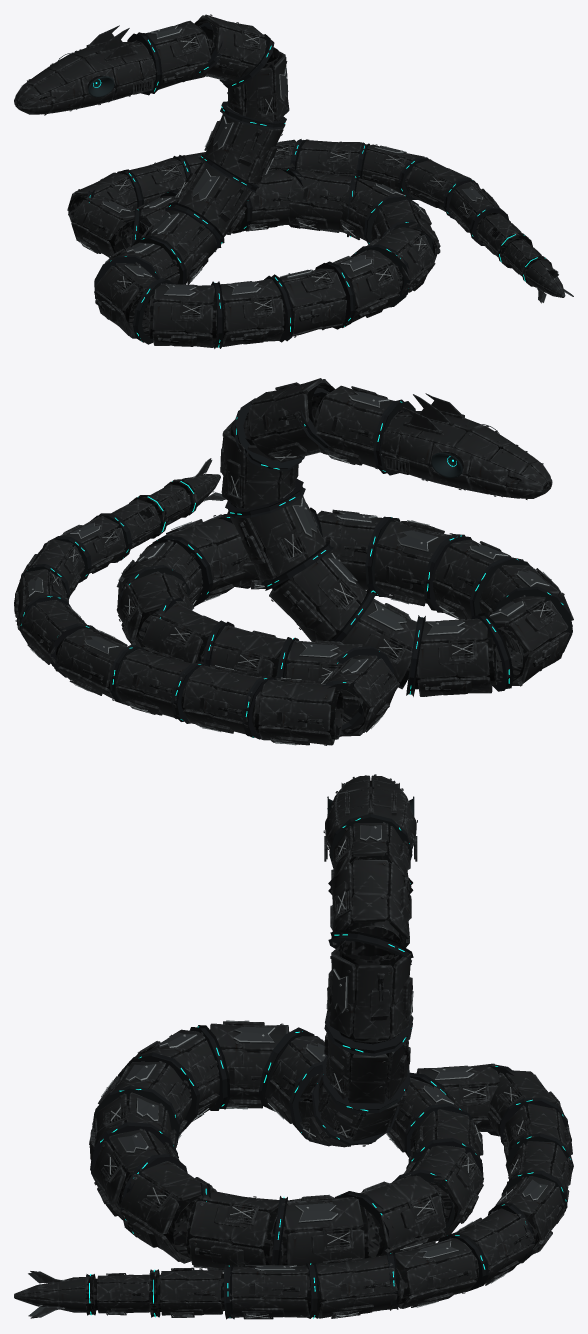
File: snake-sectional-r3.glb
3 renders of one model, top to bottom at view 1: azimuth 30°, elevation 25°; view 2: azimuth 150°, elevation 25°; view 3: azimuth 270°, elevation 25°, orthographic. The views are drawn at different scales.
Visible parts, largest first — view 1: Head, Segment_08, Segment_09, Segment_03, Tail, Segment_10, Segment_15, Segment_04, Segment_00, Segment_01, Segment_07, Segment_11 (+31 smaller); view 2: Head, Segment_06, Segment_20, Segment_04, Segment_01, Segment_03, Segment_07, Segment_00, Segment_10, Segment_21, Tail, Segment_02 (+38 smaller); view 3: Tail, Segment_02, Segment_13, Segment_01, Segment_14, Segment_12, Segment_15, Segment_25, Segment_26, Segment_27, Segment_07, Segment_03 (+33 smaller).
Part boxes in pixels (bbox=[...]): Head: bbox=[14, 25, 157, 115]; Segment_08: bbox=[149, 283, 216, 347]; Segment_09: bbox=[220, 279, 285, 346]; Segment_03: bbox=[204, 105, 283, 183]; Tail: bbox=[477, 213, 573, 303]; Segment_10: bbox=[279, 268, 346, 337]; Segment_15: bbox=[287, 169, 356, 232]; Segment_04: bbox=[174, 161, 252, 236]; Segment_00: bbox=[131, 20, 211, 89]; Segment_01: bbox=[194, 14, 266, 83]; Segment_07: bbox=[94, 263, 156, 338]; Segment_11: bbox=[333, 249, 400, 322]; Head: bbox=[379, 393, 552, 499]; Segment_06: bbox=[411, 618, 497, 696]; Segment_20: bbox=[254, 677, 343, 745]; Segment_04: bbox=[269, 552, 366, 642]; Segment_01: bbox=[247, 378, 334, 462]; Segment_03: bbox=[230, 487, 326, 580]; Segment_07: bbox=[489, 596, 569, 686]; Segment_00: bbox=[314, 385, 406, 469]; Segment_10: bbox=[374, 520, 452, 606]; Segment_21: bbox=[181, 665, 261, 736]; Tail: bbox=[111, 458, 225, 549]; Segment_02: bbox=[220, 414, 298, 509]; Tail: bbox=[14, 1267, 224, 1318]; Segment_02: bbox=[326, 937, 413, 1042]; Segment_13: bbox=[186, 1189, 281, 1272]; Segment_01: bbox=[330, 858, 411, 960]; Segment_14: bbox=[271, 1194, 369, 1266]; Segment_12: bbox=[120, 1161, 216, 1263]; Segment_15: bbox=[359, 1174, 445, 1257]; Segment_25: bbox=[393, 1237, 478, 1308]; Segment_26: bbox=[312, 1255, 401, 1318]; Segment_27: bbox=[229, 1264, 310, 1319]; Segment_07: bbox=[210, 1020, 289, 1109]; Segment_03: bbox=[324, 1033, 410, 1103].
Size of the model in its own units: 8.02 by 4.55 by 6.75.
11 materials, 3 textured.
